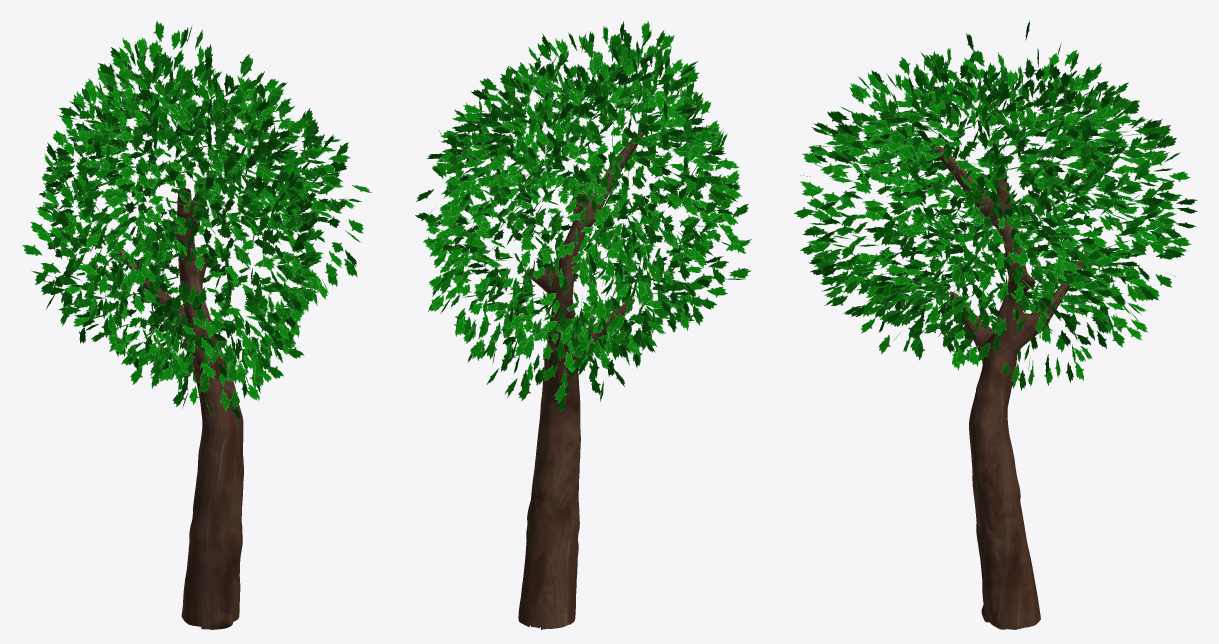
File: SM_HighPolyTree.fbx
3 renders of one model, left to right at view 1: azimuth 30°, elevation 25°; view 2: azimuth 150°, elevation 25°; view 3: azimuth 270°, elevation 25°, orthographic. The views are drawn at different scales.
Visible parts, largest first — view 1: arboldeverdad:Group7587; view 2: arboldeverdad:Group7587; view 3: arboldeverdad:Group7587.
Boxes of the visible parts, x1,y1,x2,y2 form: arboldeverdad:Group7587: [22, 21, 372, 629]; arboldeverdad:Group7587: [415, 21, 751, 629]; arboldeverdad:Group7587: [794, 20, 1197, 629].
Bounding box in the file's own units: 853 × 1623 × 1076.
2 materials, 2 textured.
